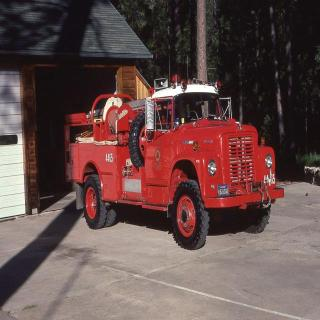Fire_truck: (64, 73, 284, 251)
